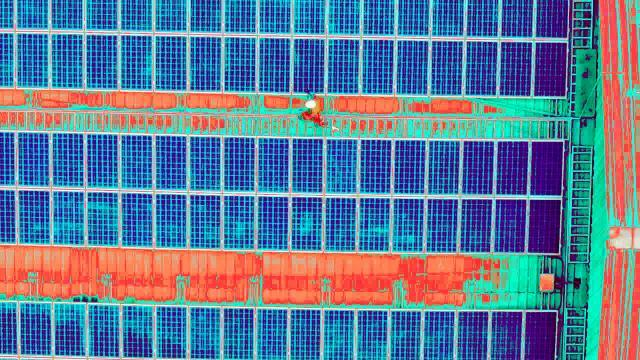clean: (535, 39, 567, 99), (500, 38, 532, 98), (529, 139, 561, 199), (496, 137, 528, 197), (523, 311, 558, 360), (487, 311, 522, 360), (529, 197, 560, 251), (495, 198, 526, 252), (494, 200, 525, 251), (460, 200, 491, 251), (462, 143, 493, 194), (455, 309, 486, 360)
semi: (14, 32, 49, 87), (49, 33, 84, 88), (83, 34, 118, 89), (116, 33, 151, 88), (152, 32, 187, 87), (184, 35, 219, 90), (223, 35, 258, 90), (255, 36, 290, 91), (289, 37, 324, 92), (325, 37, 360, 92), (358, 38, 393, 93), (395, 38, 430, 93), (427, 39, 462, 94), (15, 133, 50, 188), (51, 134, 86, 189), (86, 134, 121, 189), (117, 134, 152, 189), (152, 135, 187, 190), (184, 136, 219, 191), (220, 138, 255, 193), (255, 137, 290, 192), (290, 137, 325, 192), (322, 138, 357, 193), (424, 140, 459, 195), (359, 139, 394, 194), (15, 187, 50, 242), (49, 188, 84, 243), (82, 190, 117, 245), (118, 192, 153, 247), (153, 192, 188, 247), (186, 195, 221, 250), (219, 196, 254, 251), (252, 194, 287, 249), (288, 195, 323, 250), (323, 196, 358, 251), (356, 195, 391, 250), (392, 198, 427, 253), (155, 306, 186, 357), (120, 307, 151, 358), (89, 305, 120, 356), (422, 311, 453, 360), (390, 310, 421, 359), (357, 309, 388, 358), (321, 311, 352, 360), (289, 310, 320, 359), (256, 309, 287, 358), (223, 310, 254, 359), (193, 309, 224, 358)
